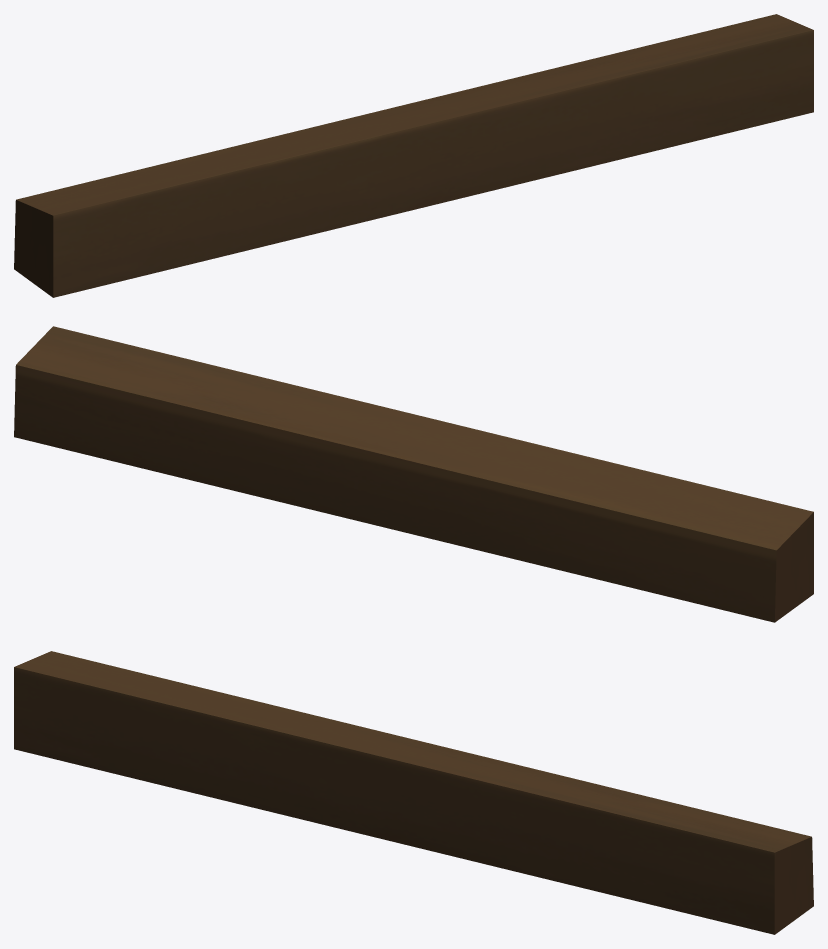
File: floor02_wall1.FBX
3 renders of one model, top to bottom at view 1: azimuth 30°, elevation 25°; view 2: azimuth 150°, elevation 25°; view 3: azimuth 330°, elevation 25°, orthographic.
Parts seen in each view (by area): view 1: Object1584; view 2: Object1584; view 3: Object1584.
Boxes of the visible parts, x1,y1,x2,y2 form: Object1584: (14, 14, 813, 297); Object1584: (14, 326, 813, 622); Object1584: (14, 651, 813, 934).
Bounding box in the file's own units: 2.01 × 0.2072 × 0.179.
